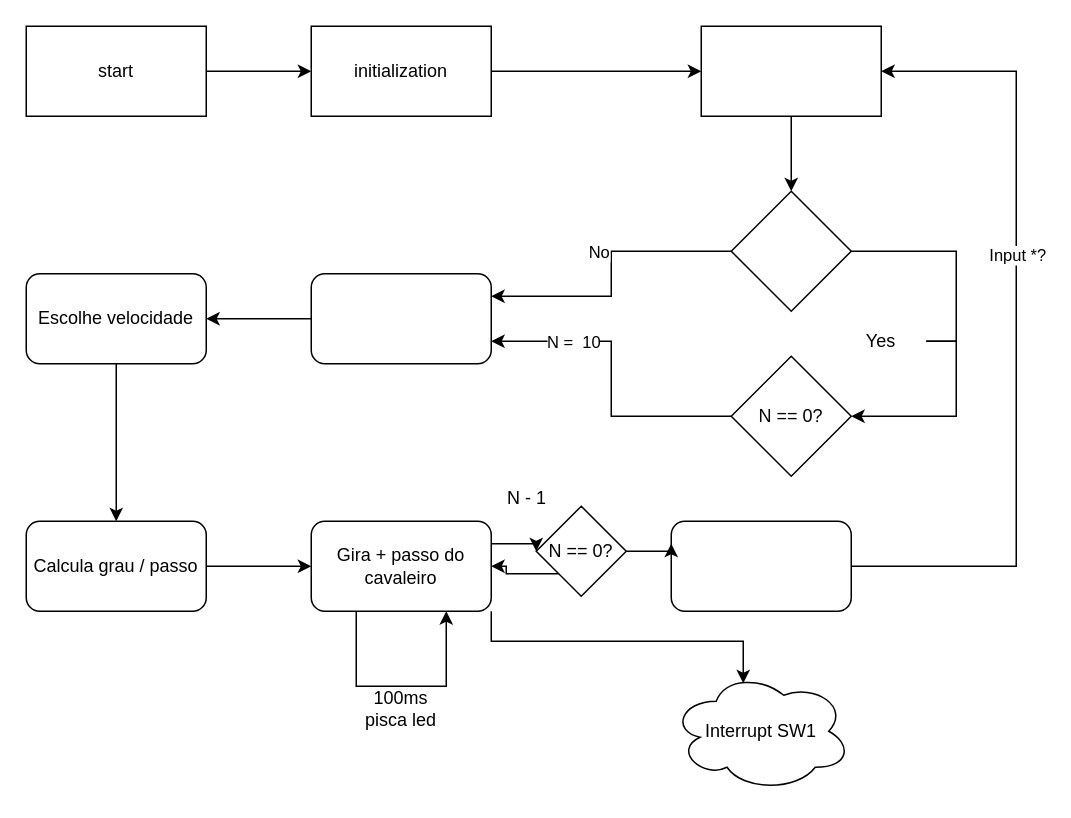
Image size: 1071x818. Some labels were removed from this diagram. Each missing label, with the centre of its shape:
Escolhe dir: point (400, 318)
Escolhe N de voltas: point (790, 70)
FIM: point (760, 565)
N == 1?: point (790, 250)
